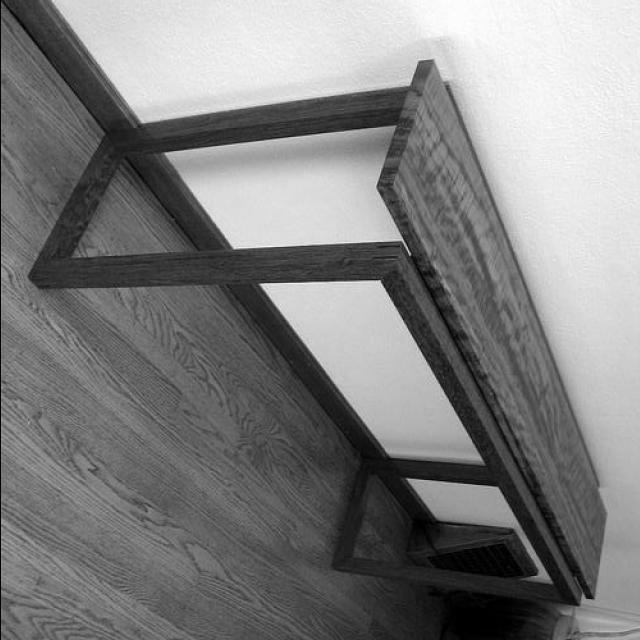table: (28, 60, 610, 610)
